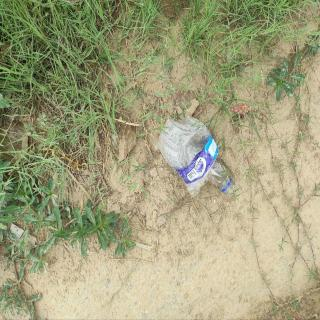Plastic-bottle: (157, 111, 239, 202)
